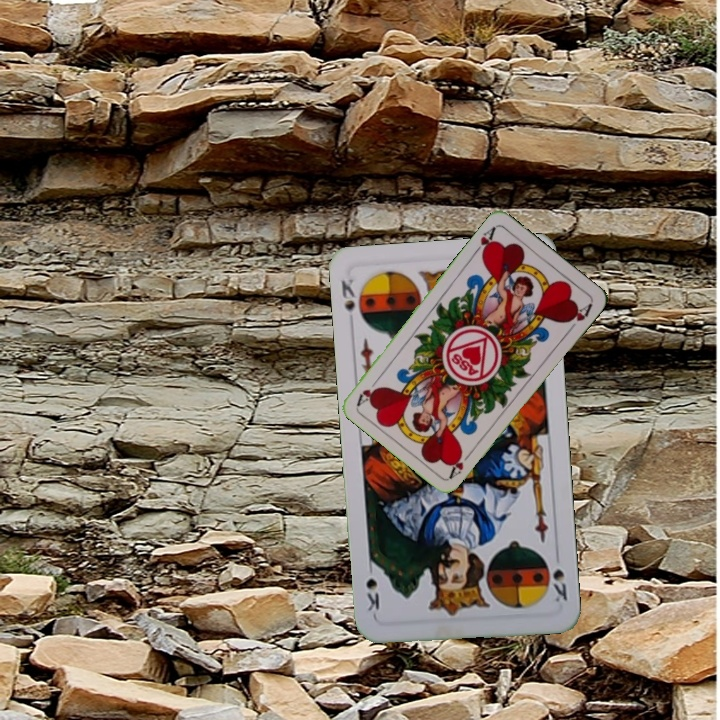HA: (469, 222, 499, 260), (445, 446, 476, 480)
SK: (337, 275, 366, 330), (549, 565, 570, 605)
